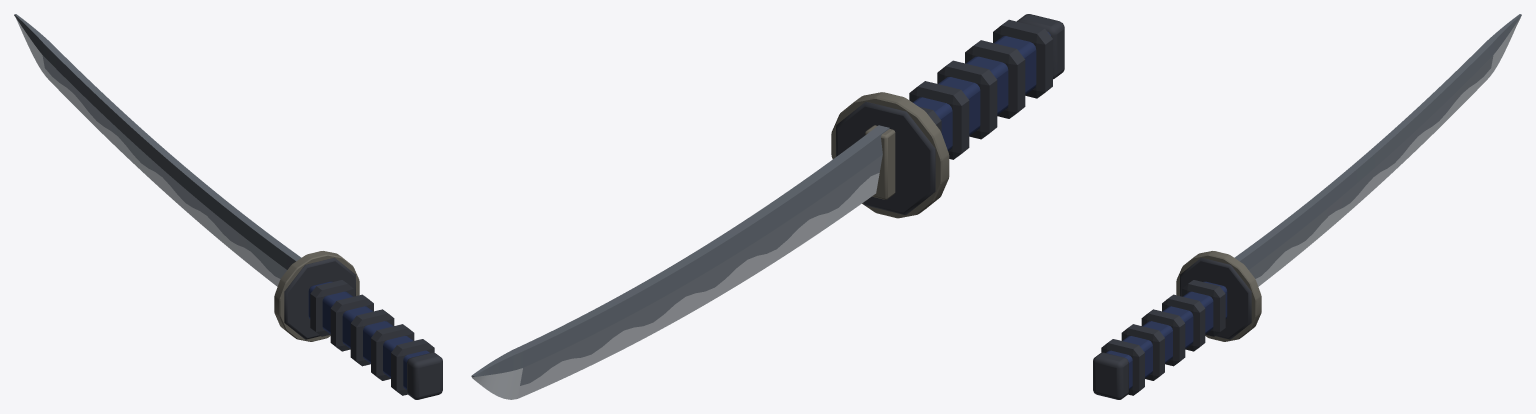
The model's file is w_katana.glb.
The picture shows the model from 3 angles, left to right: view 1: azimuth 30°, elevation 25°; view 2: azimuth 150°, elevation 25°; view 3: azimuth 330°, elevation 25°; orthographic projection. The views are drawn at different scales.
Parts seen in each view (by area): view 1: kat_blade_wzB.002, kat_trims_wzN, kat_blade_wzB, kat_blade_wzB.001, kat_guard_wzN.001, kat_tsuka_wzA, kat_tsuka_wzN, kat_guard_wzN; view 2: kat_blade_wzB.002, kat_trims_wzN, kat_blade_wzB, kat_blade_wzB.001, kat_guard_wzN.001, kat_guard_wzN, kat_tsuka_wzA, kat_tsuka_wzN; view 3: kat_blade_wzB.002, kat_trims_wzN, kat_blade_wzB, kat_blade_wzB.001, kat_guard_wzN.001, kat_tsuka_wzA, kat_tsuka_wzN, kat_guard_wzN.
Part boxes in pixels (x1,y1,x2,y2): kat_blade_wzB.002: (14, 14, 301, 269); kat_trims_wzN: (310, 280, 434, 395); kat_blade_wzB: (16, 18, 280, 286); kat_blade_wzB.001: (42, 55, 286, 278); kat_guard_wzN.001: (284, 257, 355, 339); kat_tsuka_wzA: (308, 281, 429, 389); kat_tsuka_wzN: (407, 352, 442, 399); kat_guard_wzN: (274, 251, 359, 341); kat_blade_wzB.002: (471, 125, 889, 376); kat_trims_wzN: (909, 19, 1052, 159); kat_blade_wzB: (471, 172, 879, 399); kat_blade_wzB.001: (520, 154, 882, 385); kat_guard_wzN.001: (836, 101, 935, 214); kat_guard_wzN: (831, 92, 949, 218); kat_tsuka_wzA: (913, 32, 1050, 151); kat_tsuka_wzN: (1017, 14, 1064, 79); kat_blade_wzB.002: (1234, 14, 1521, 269); kat_trims_wzN: (1101, 280, 1225, 395); kat_blade_wzB: (1255, 17, 1520, 286); kat_blade_wzB.001: (1249, 55, 1493, 278); kat_guard_wzN.001: (1180, 257, 1251, 339); kat_tsuka_wzA: (1106, 281, 1227, 389); kat_tsuka_wzN: (1093, 352, 1128, 399); kat_guard_wzN: (1176, 251, 1261, 341).
Bounding box in the file's own units: 0.1079 × 0.1329 × 0.9667.
